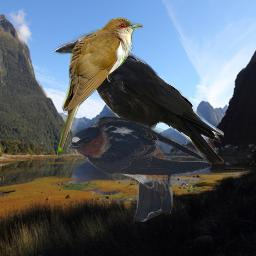Crow: (54, 33, 224, 164)
Cuckoo: (57, 16, 143, 159)
Swallow: (67, 114, 212, 222)
